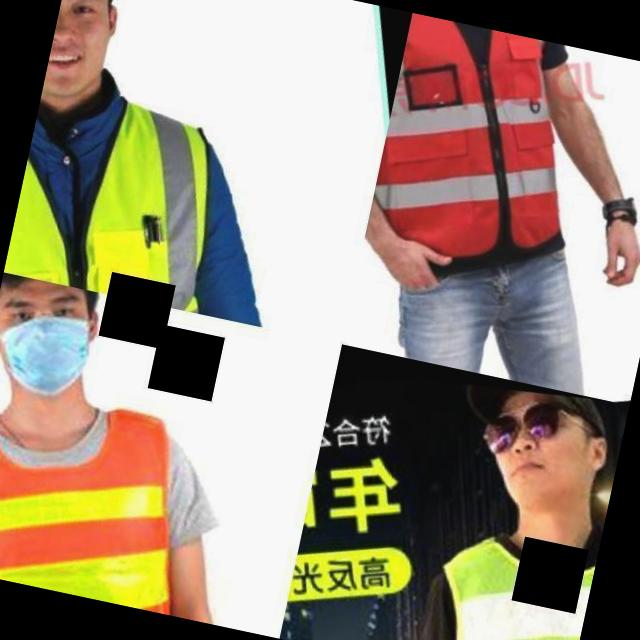vest: (3, 48, 316, 328), (358, 12, 612, 306), (0, 353, 259, 624), (413, 483, 605, 640)
